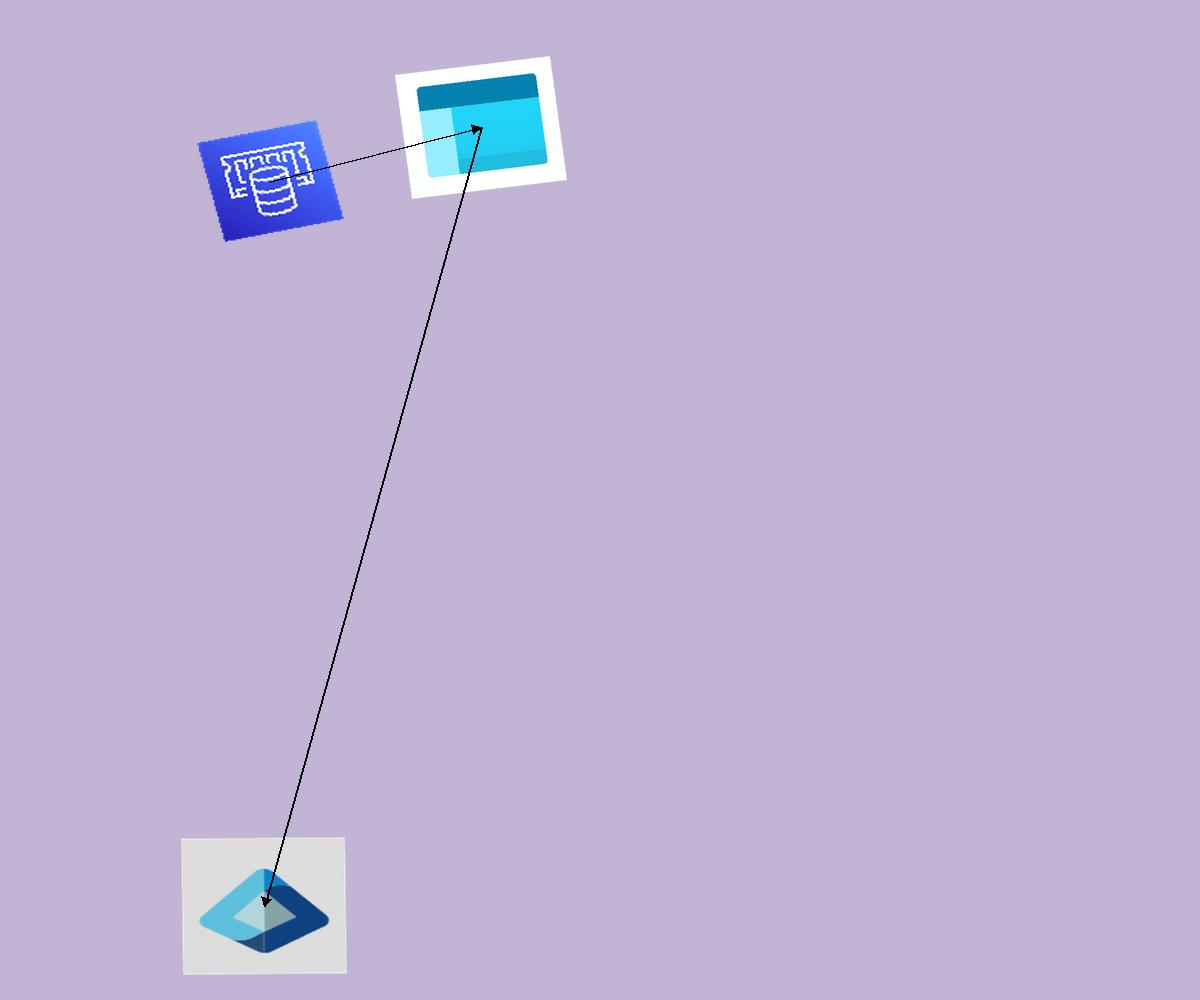AWS-ElastiCache: (196, 119, 345, 243)
Azure_management-portal: (395, 56, 567, 199)
Azure_microsoft_entra: (181, 837, 347, 975)
